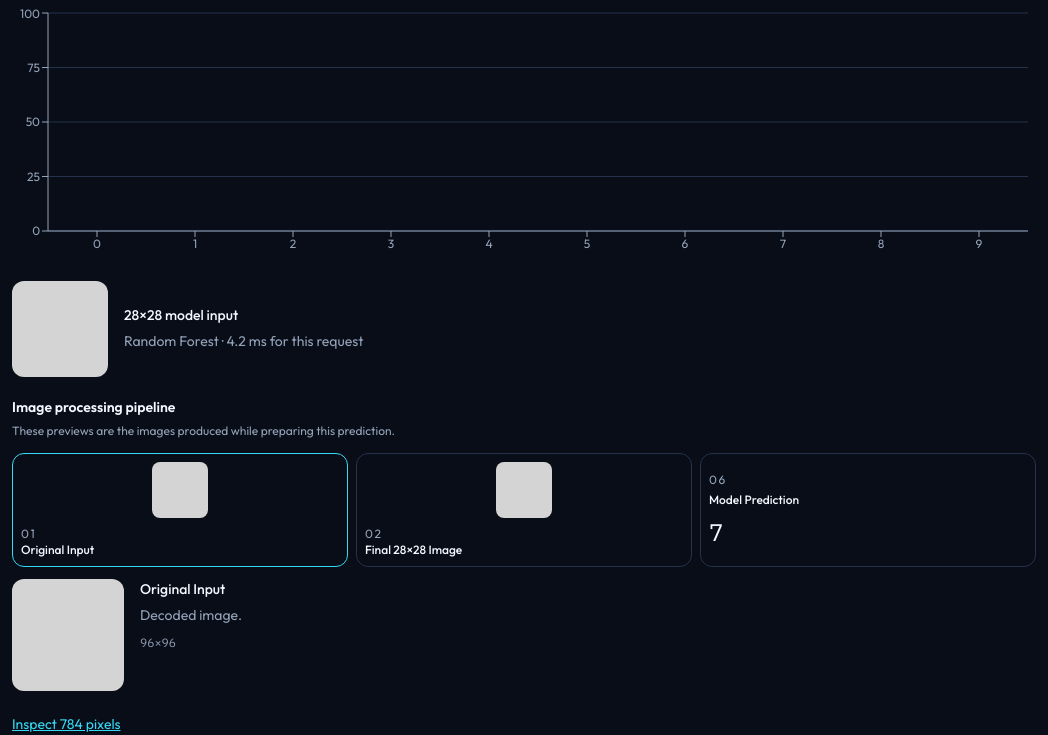
Test: prediction display › shows real pipeline stages and a pixel intensity
The image size is (1048, 735).
(page scrolled)
Expected: the 1st text "Original Input" is shown, [21, 542, 94, 557]
Expected: the text "96×96" is shown, [140, 635, 176, 650]
Click the button "Inspect 784 pixels" at (66, 724), box [12, 714, 120, 734]
(page scrolled)
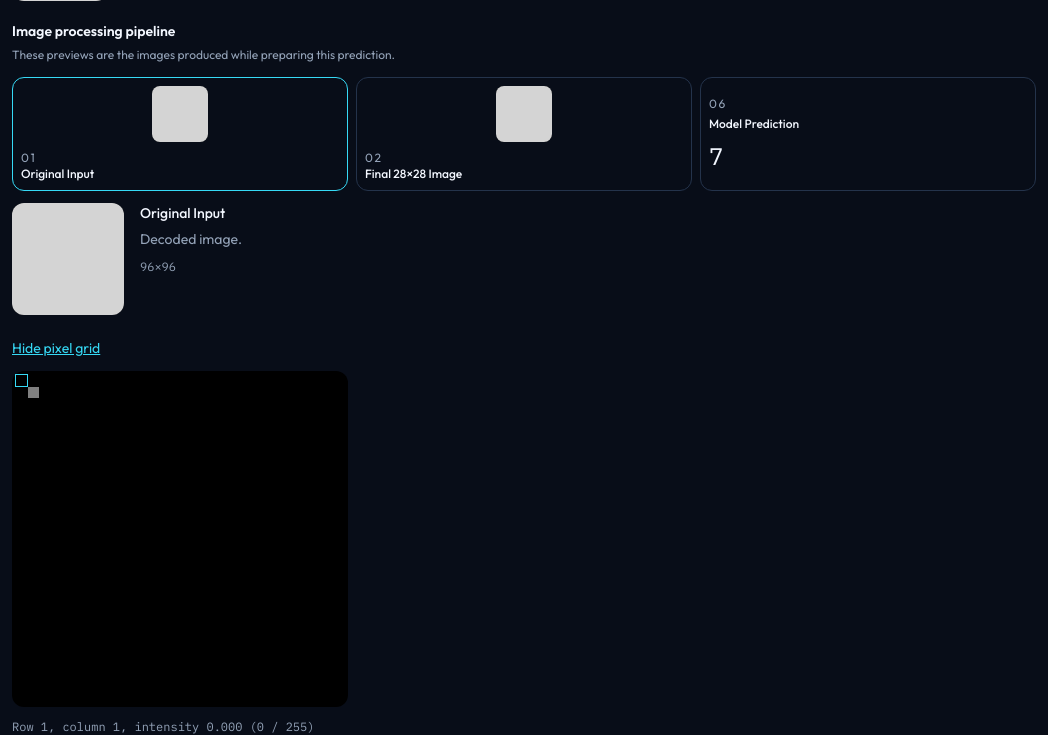
Focus the cell named "Row 2, column 2, intensity 0.50" at (33, 392), box [28, 387, 39, 398]
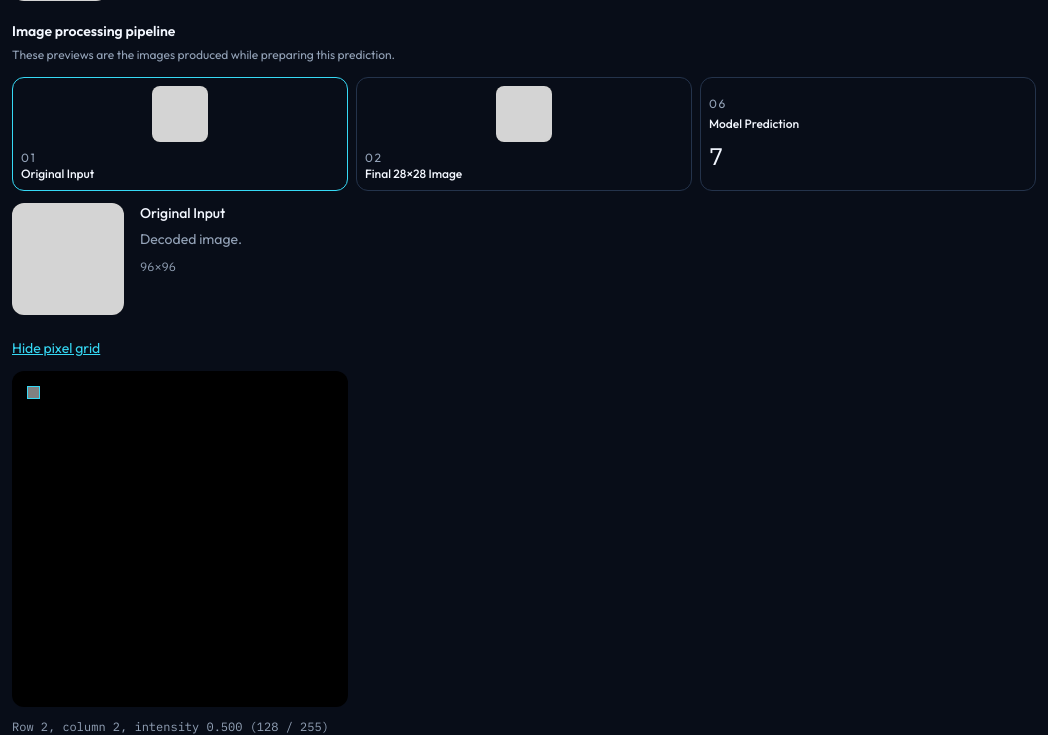
Expected: the text "Row 2, column 2, intensity 0.500 (128 / 255)" is shown, [12, 719, 329, 734]
